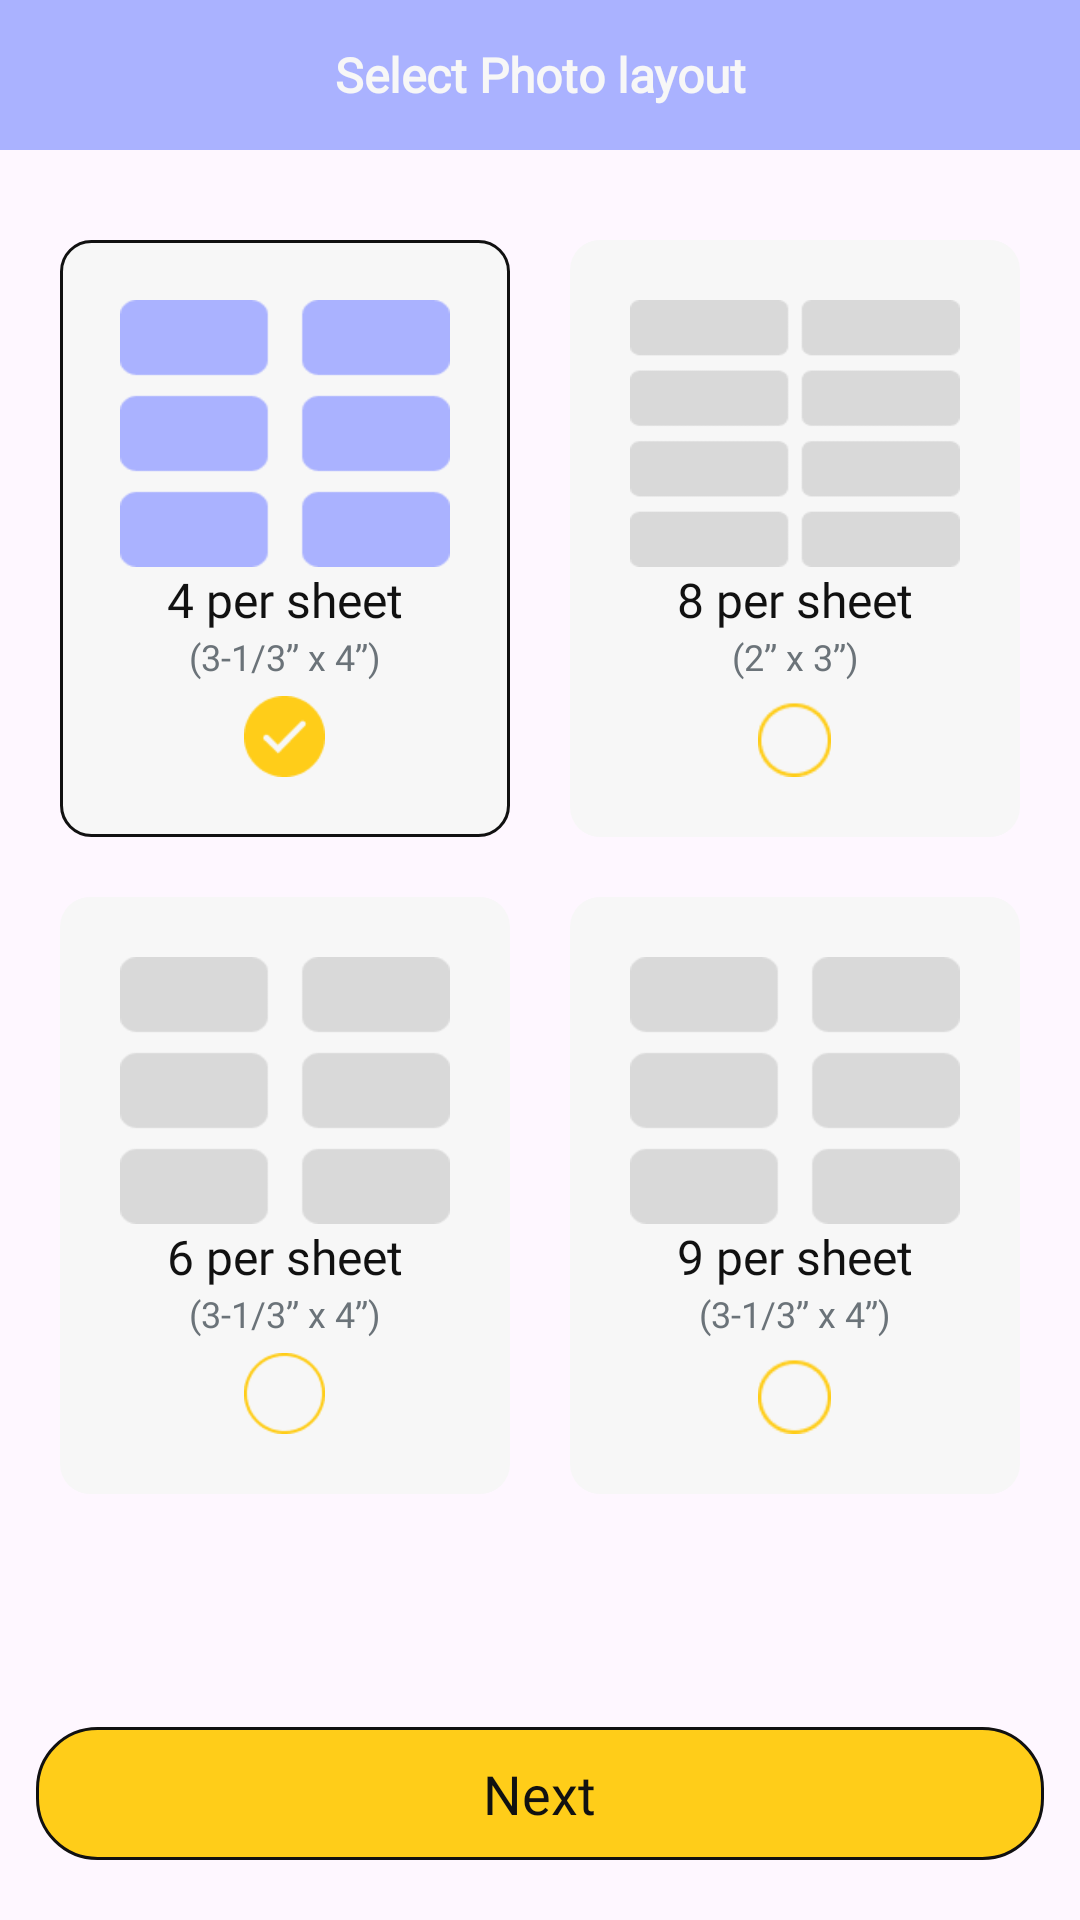

Icons on this 1080 × 1920 Android screen, each with its box as BBox(x1, y1, x2, y2):
lable click: BBox(244, 696, 325, 777)
un click: BBox(758, 703, 831, 777), BBox(758, 1360, 831, 1434)
